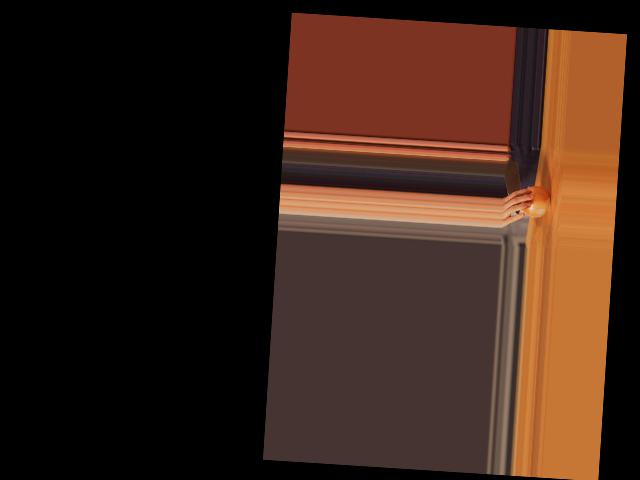onion: (519, 185, 552, 217)
